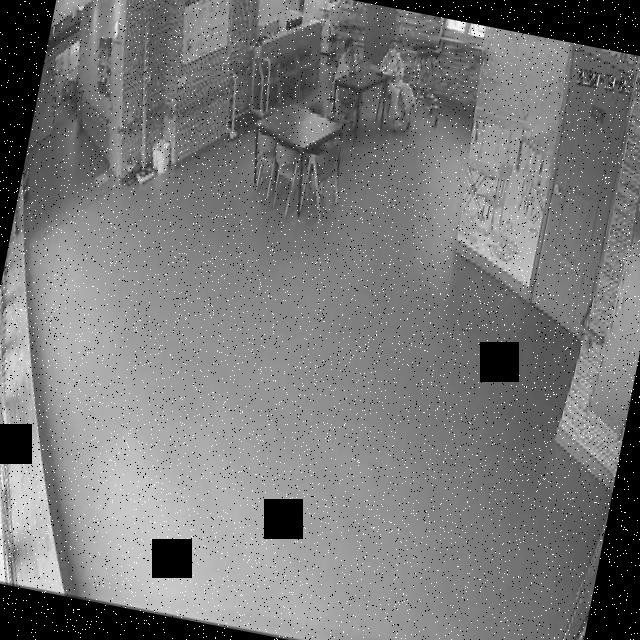patient: (369, 40, 427, 133), (332, 34, 366, 90)
sit: (369, 41, 426, 132)
